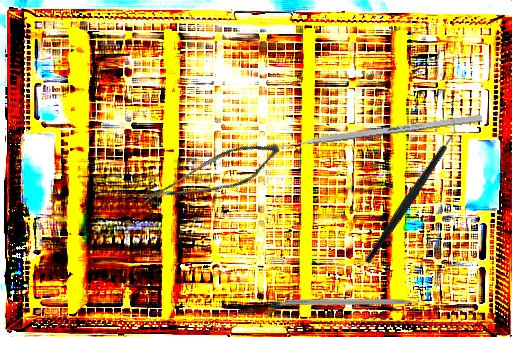Chopper: (327, 116, 495, 265), (285, 299, 431, 313)
Micro Scissor: (138, 119, 285, 236)
Pusher: (262, 113, 483, 153)
